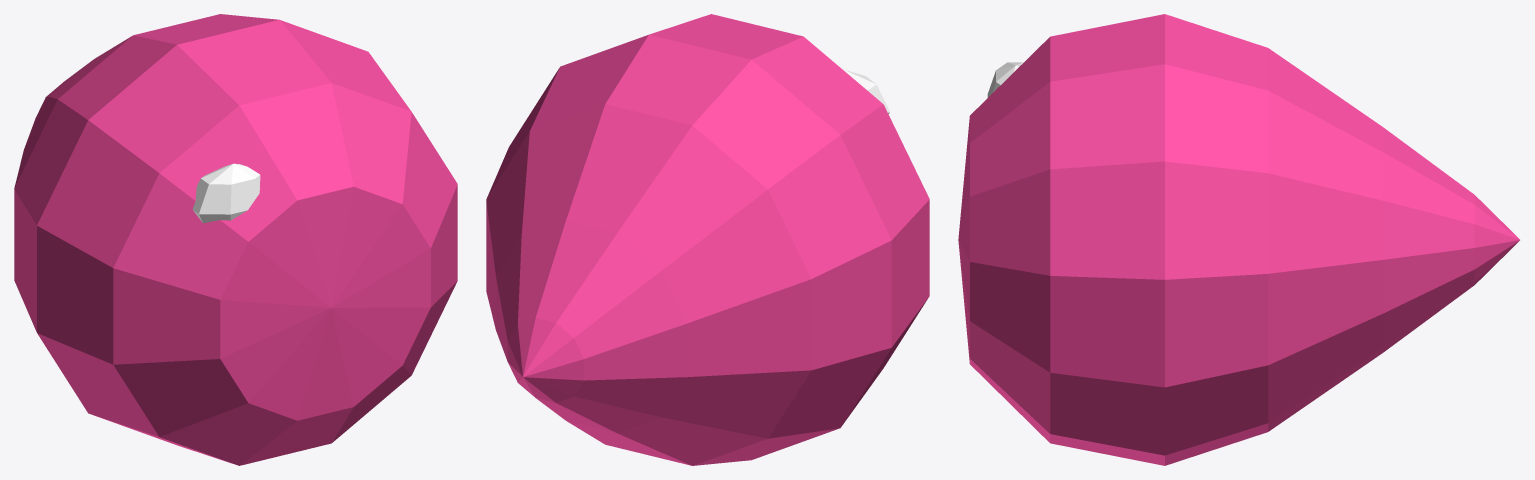
File: goo_blob.fbx
3 renders of one model, left to right at view 1: azimuth 30°, elevation 25°; view 2: azimuth 150°, elevation 25°; view 3: azimuth 270°, elevation 25°, orthographic.
Visible parts, largest first — view 1: Body, Shine; view 2: Body; view 3: Body.
Boxes of the visible parts, bbox=[...] form: Body: bbox=[14, 14, 457, 465]; Shine: bbox=[192, 163, 260, 223]; Body: bbox=[486, 14, 929, 465]; Body: bbox=[958, 14, 1519, 465].
Size of the model in its own units: 1.93 by 1.93 by 2.45.
